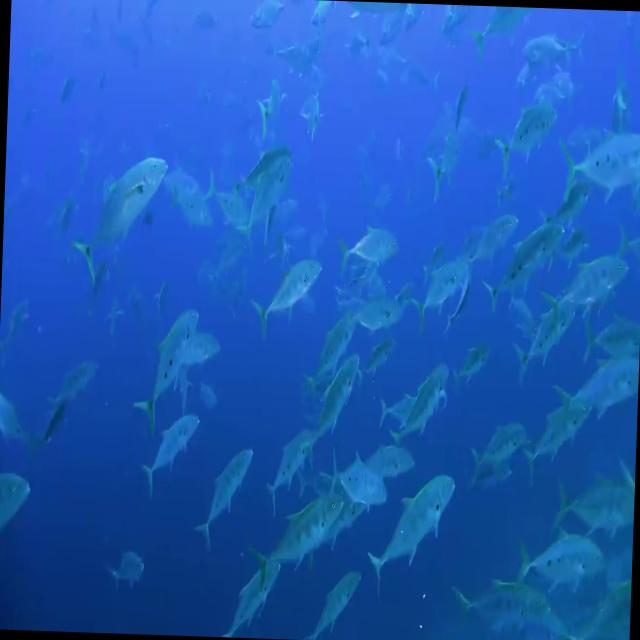fish: (72, 153, 169, 284), (370, 477, 456, 590), (190, 443, 255, 535)
